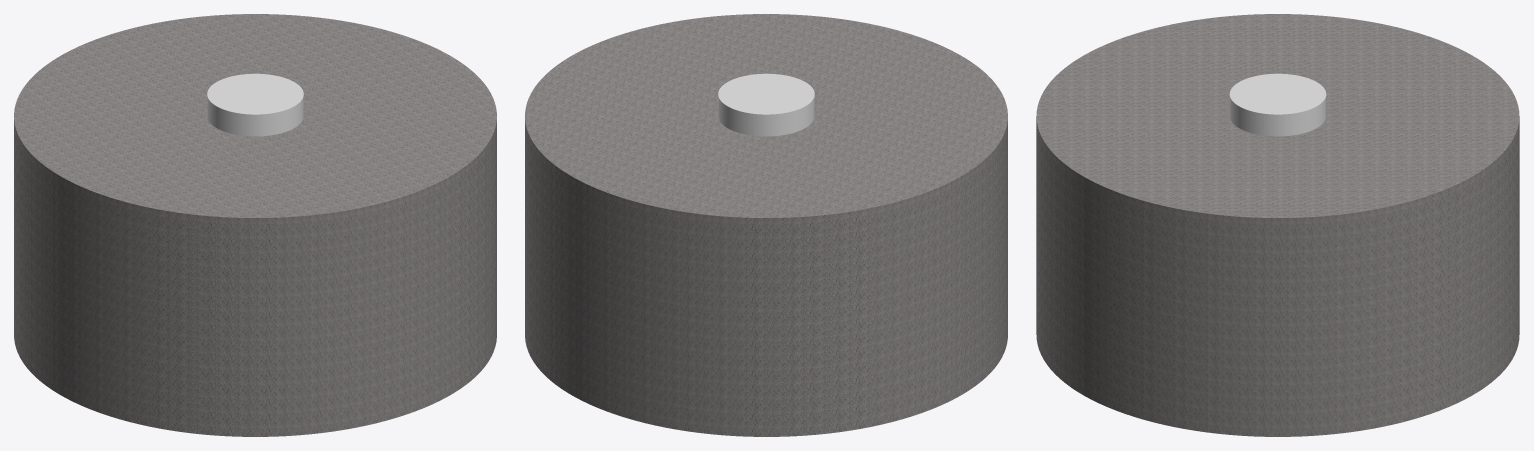
Rendered from moon_inverse_cylinder.glb.
The picture shows the model from 3 angles, left to right: view 1: azimuth 30°, elevation 25°; view 2: azimuth 150°, elevation 25°; view 3: azimuth 270°, elevation 25°; orthographic projection.
Visible parts, largest first — view 1: Cylinder, Cylinder.001; view 2: Cylinder, Cylinder.001; view 3: Cylinder, Cylinder.001.
Boxes of the visible parts, bbox=[...] form: Cylinder: bbox=[14, 14, 496, 436]; Cylinder.001: bbox=[207, 73, 303, 136]; Cylinder: bbox=[525, 14, 1007, 436]; Cylinder.001: bbox=[718, 73, 814, 136]; Cylinder: bbox=[1036, 14, 1519, 436]; Cylinder.001: bbox=[1229, 73, 1326, 136].
Bounding box in the file's own units: 100 × 60 × 100.
1 material, 1 textured.
